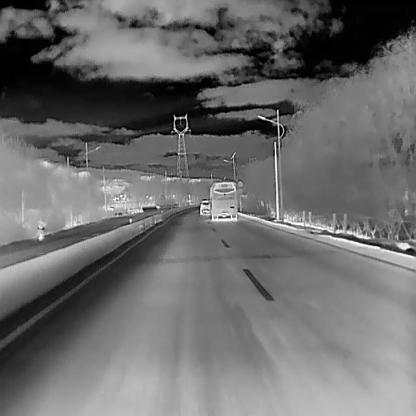bus: (207, 179, 238, 222)
car: (198, 196, 210, 216)
